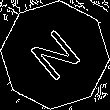N_SE: (24, 23, 86, 87)
